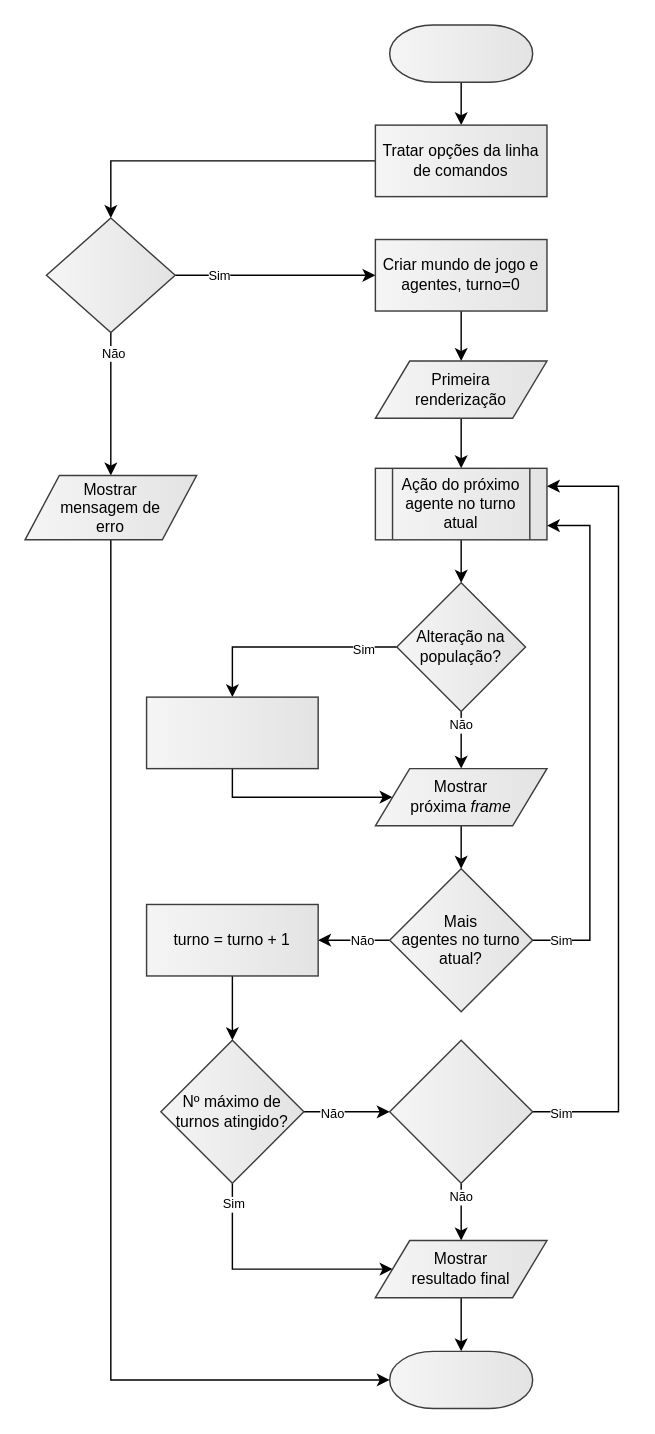
This 655x1434 diagram has some shape labels left out. The box of each missing label's shape, as (x1, y1, x2, y2) in pixels:
Ainda existem humanos?: (388, 1039, 533, 1183)
Contar agentes: (145, 696, 318, 769)
Fim: (388, 1350, 533, 1409)
Início: (388, 24, 533, 82)
Opções válidas?: (45, 217, 175, 332)
